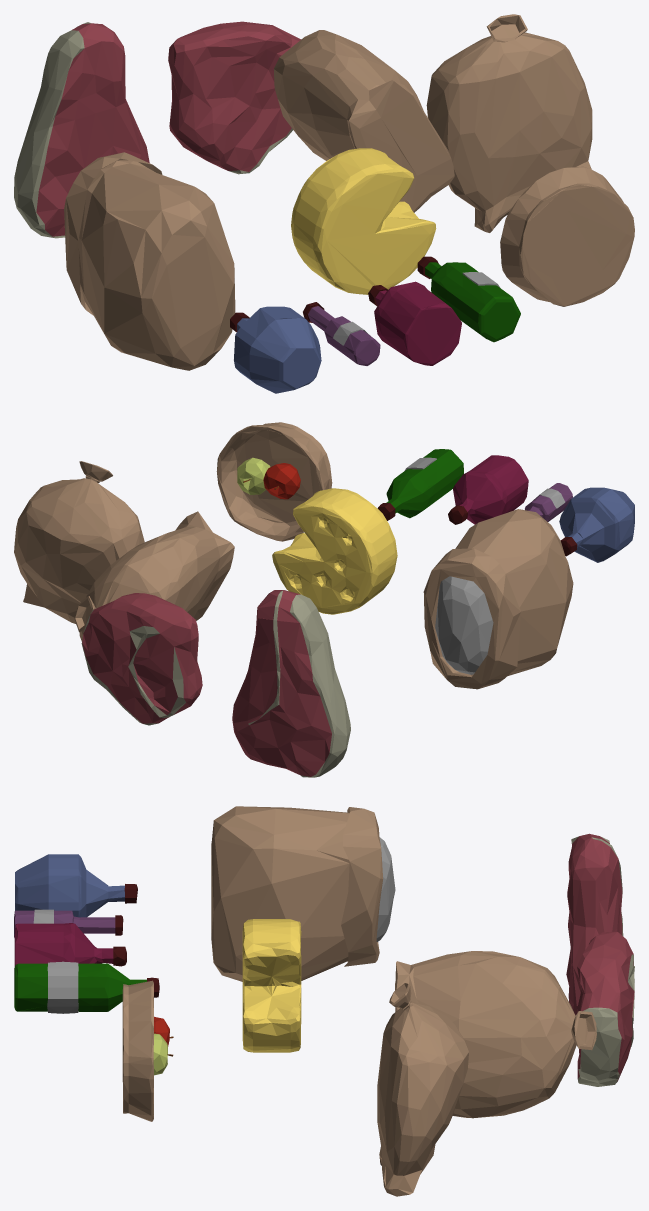
The model's file is foods.FBX.
3 renders of one model, top to bottom at view 1: azimuth 30°, elevation 25°; view 2: azimuth 150°, elevation 25°; view 3: azimuth 270°, elevation 25°, orthographic. The views are drawn at different scales.
Visible parts, largest first — view 1: bag_open, bag_h, bag_v, meat_one, cheese, meat_two, plate, bottle_one, bottle_three, bottle_four, bottle_two; view 2: bag_open, meat_one, bag_h, meat_two, cheese, bag_v, plate, bottle_one, bottle_three, bottle_four, apple_red, bottle_two (+1 smaller); view 3: bag_open, bag_v, bag_h, cheese, meat_two, meat_one, bottle_four, bottle_one, plate, bottle_three, bottle_two.
Part boxes in pixels (left/top/right/bottom): bag_open: left=64, top=152, right=235, bottom=370; bag_h: left=426, top=14, right=592, bottom=232; bag_v: left=273, top=30, right=454, bottom=212; meat_one: left=14, top=22, right=149, bottom=238; cheese: left=291, top=148, right=436, bottom=294; meat_two: left=168, top=21, right=300, bottom=174; plate: left=500, top=166, right=634, bottom=306; bottle_one: left=230, top=306, right=321, bottom=393; bottle_three: left=368, top=281, right=461, bottom=365; bottle_four: left=417, top=256, right=520, bottom=342; bottle_two: left=303, top=302, right=380, bottom=365; bag_open: left=423, top=509, right=573, bottom=689; meat_one: left=232, top=590, right=350, bottom=777; bag_h: left=14, top=461, right=144, bottom=623; meat_two: left=81, top=593, right=202, bottom=725; cheese: left=272, top=488, right=397, bottom=614; bag_v: left=74, top=511, right=234, bottom=641; plate: left=216, top=422, right=332, bottom=541; bottle_one: left=559, top=487, right=634, bottom=562; bottle_three: left=448, top=455, right=528, bottom=524; bottle_four: left=377, top=449, right=463, bottom=520; apple_red: left=263, top=463, right=300, bottom=499; bottle_two: left=525, top=483, right=572, bottom=521; bag_open: left=211, top=806, right=395, bottom=981; bag_v: left=395, top=951, right=596, bottom=1118; bag_h: left=377, top=983, right=468, bottom=1196; cheese: left=242, top=919, right=301, bottom=1052; meat_two: left=577, top=931, right=634, bottom=1086; meat_one: left=566, top=833, right=623, bottom=1015; bottle_four: left=14, top=961, right=159, bottom=1013; bottle_one: left=15, top=854, right=137, bottom=917; plate: left=122, top=980, right=153, bottom=1121; bottle_three: left=14, top=923, right=126, bottom=966; bottle_two: left=14, top=909, right=123, bottom=937.
Bounding box in the file's own units: 166 × 58.05 × 166.
